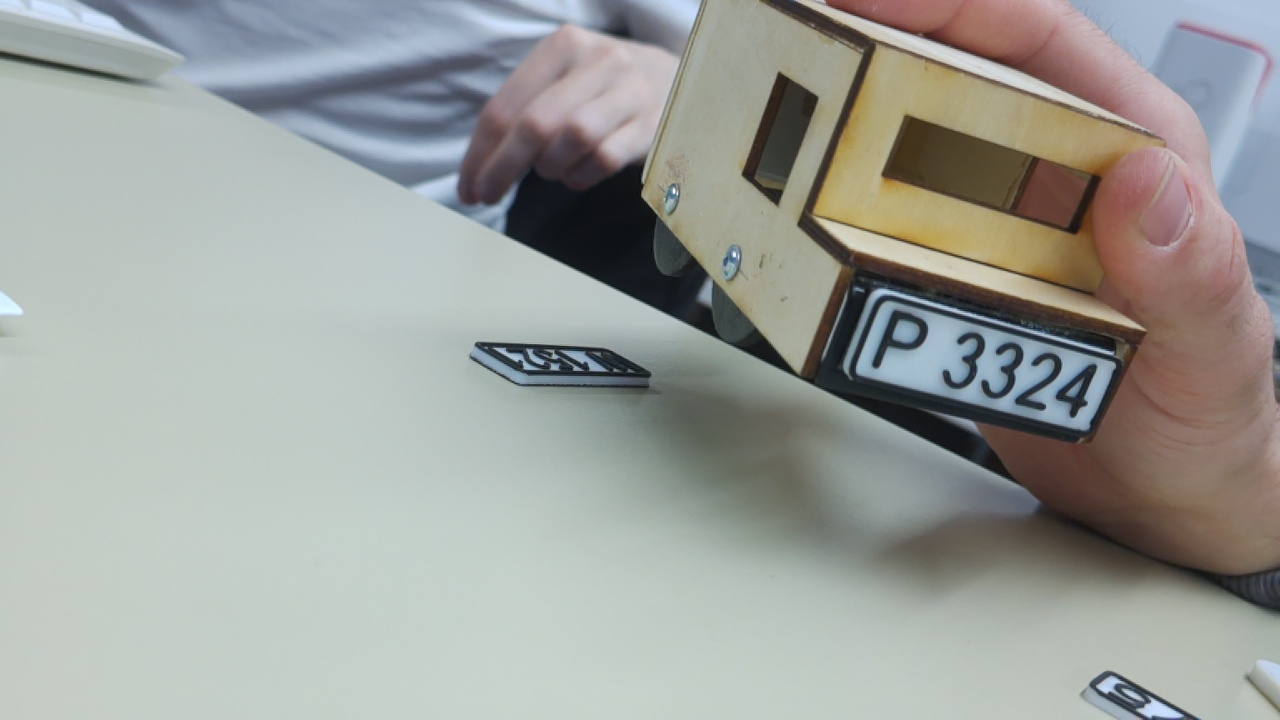license_plate: (835, 277, 1124, 451)
